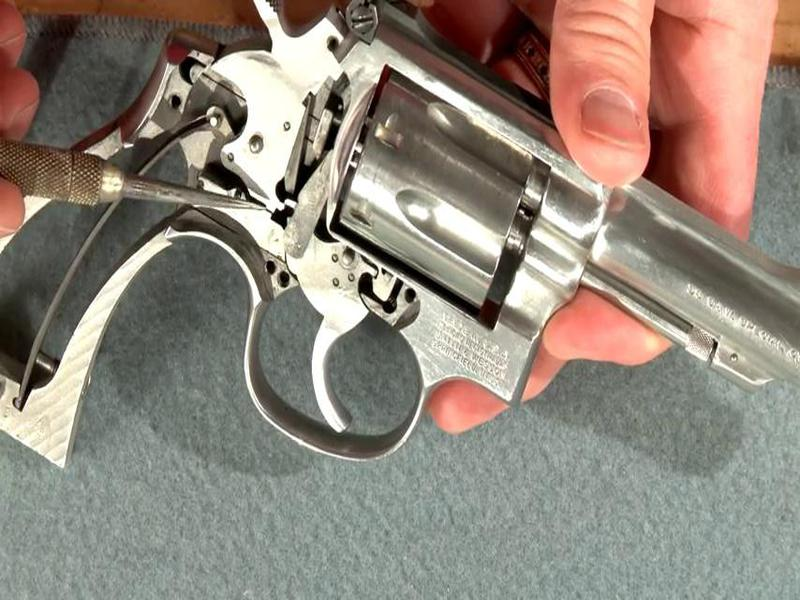Revolver: (12, 4, 800, 527)
